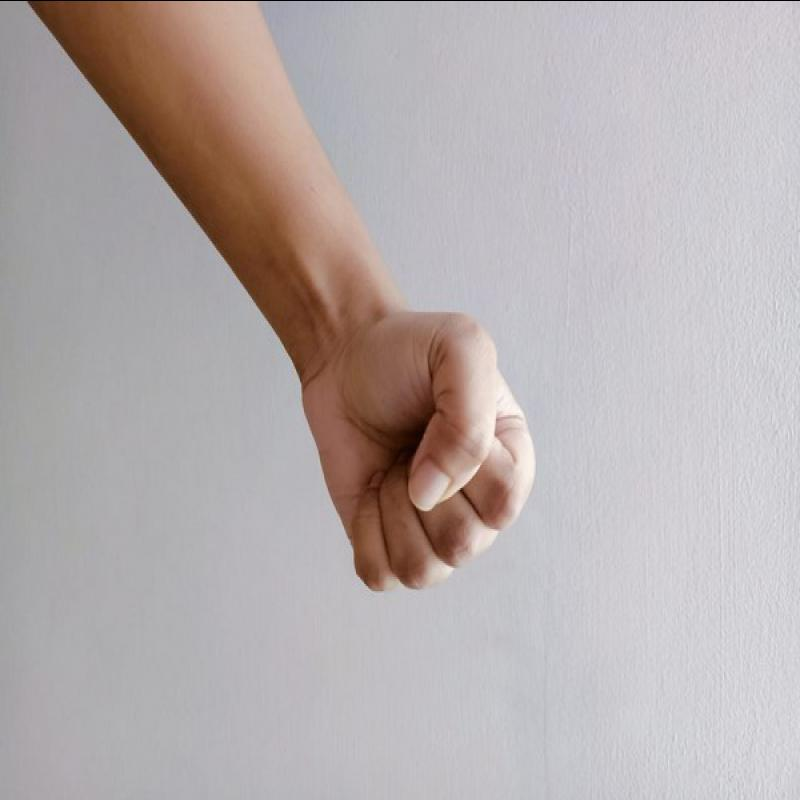Mushti: (258, 298, 579, 609)
